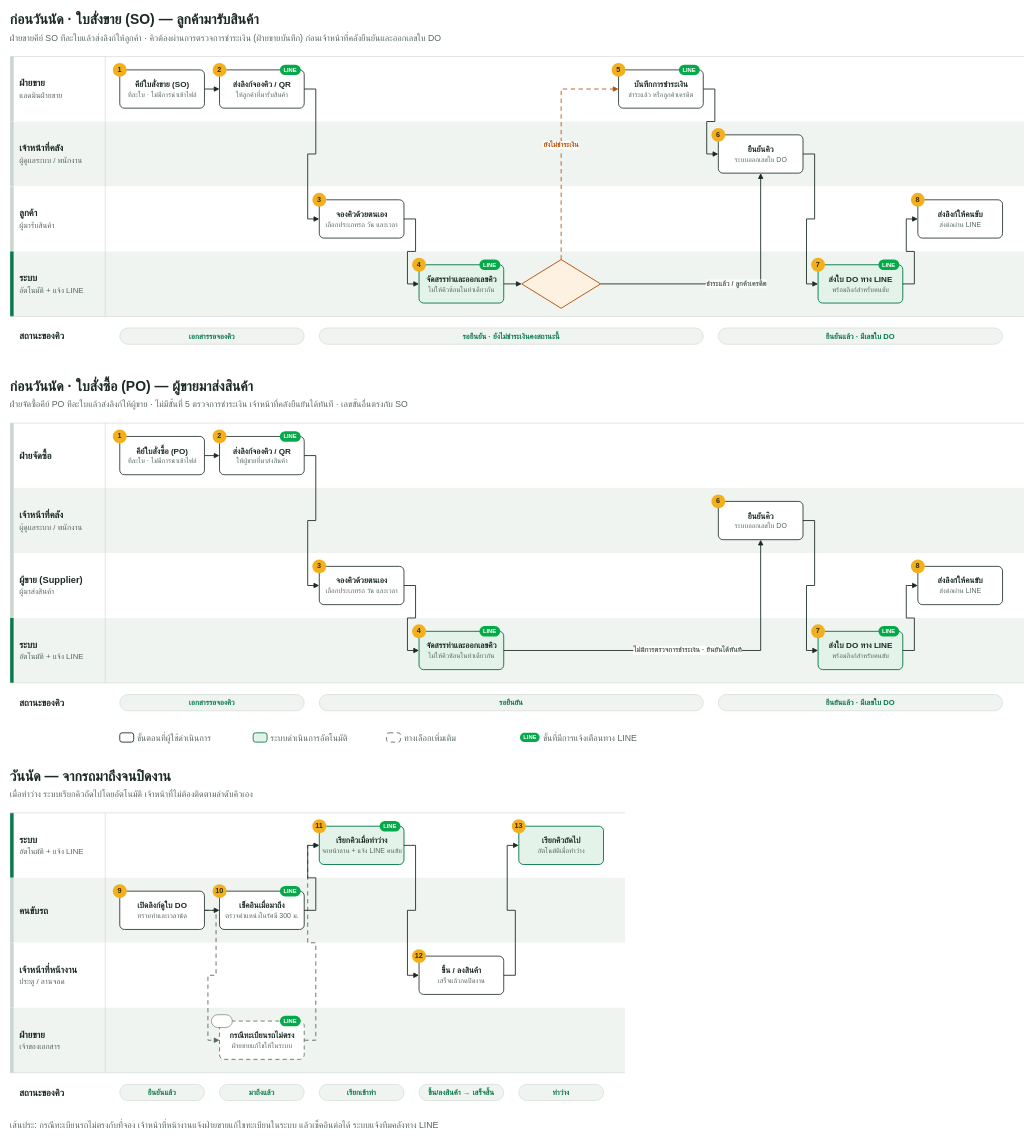
This 1035x1141 diagram has some shape labels left out. Each missing label, with the centre of its shape:
"ตรวจการชำระเงิน ชำระแล้วหรือไม่" goes at (561,283).
"หรือ" goes at (221,1020).
